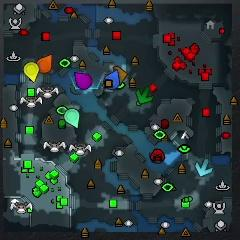p1: (104, 70, 119, 90)
p2: (64, 108, 80, 129)
p3: (74, 72, 93, 90)
p4: (23, 62, 39, 83)
p5: (37, 55, 52, 74)
x3: (196, 159, 213, 177)
x4: (136, 86, 153, 104)
x5: (113, 66, 128, 84)
